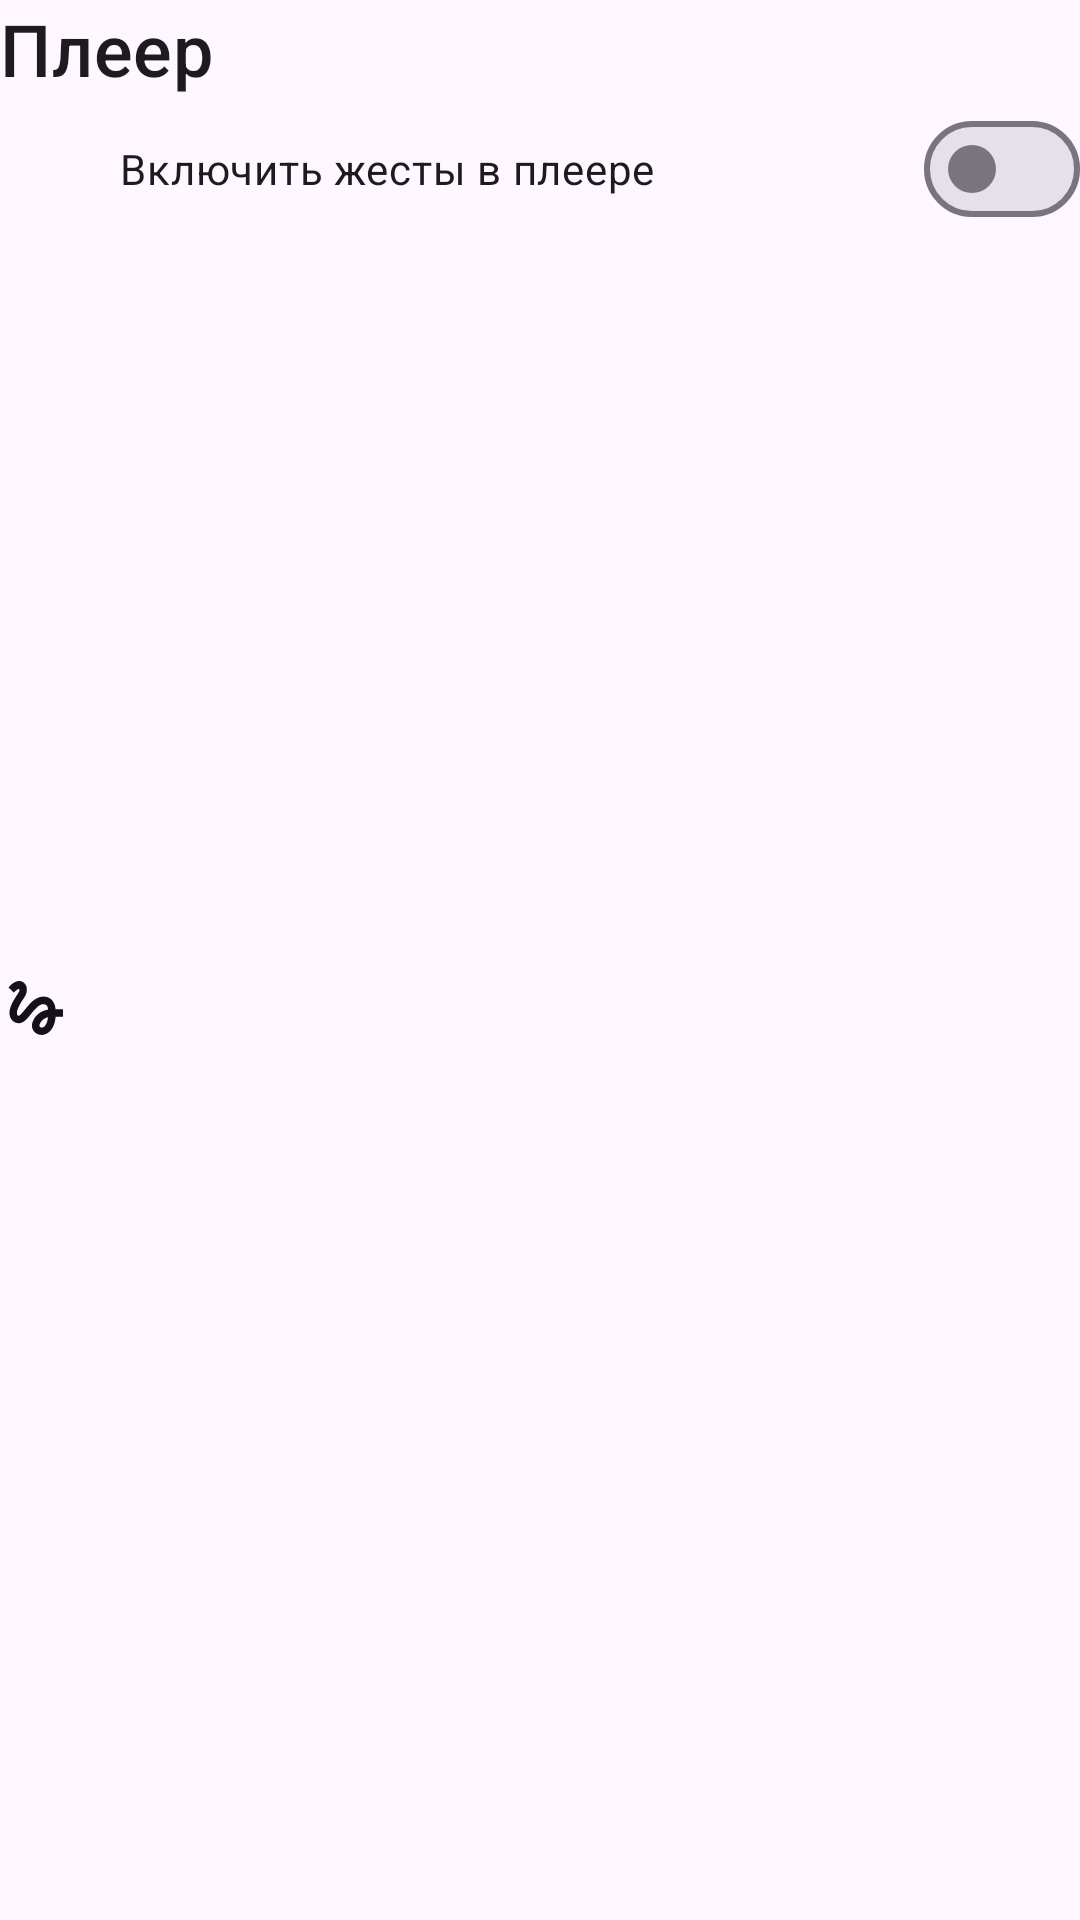

Icon click points for this 1080*1920 phone screenshot, format [x,y]:
gesture: [35,1008]
